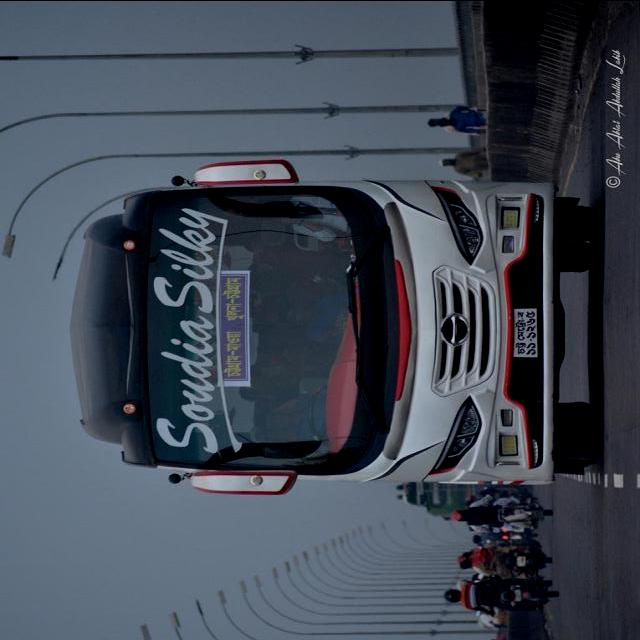bus: (67, 159, 603, 496)
